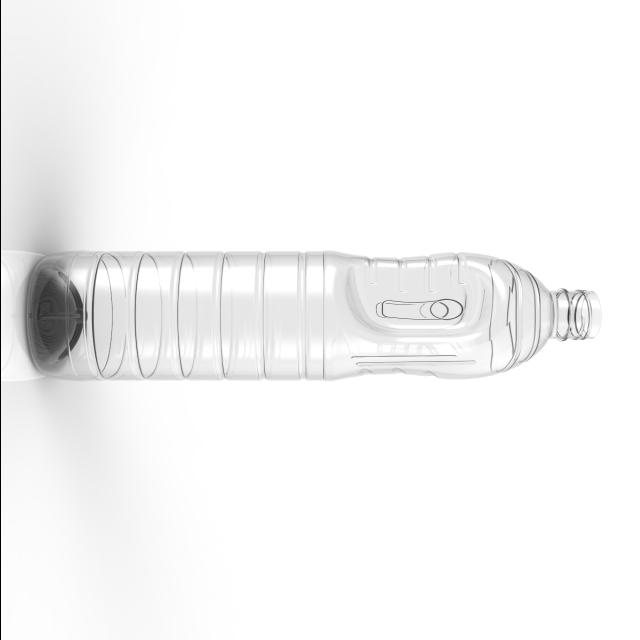bottom: (10, 239, 122, 395)
no_cap: (546, 278, 597, 352)
